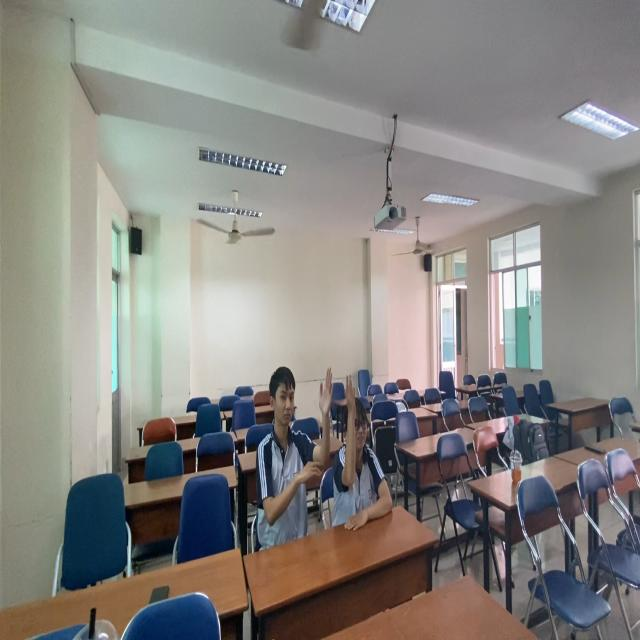raise_hand: (256, 354, 335, 548), (333, 367, 398, 535)
